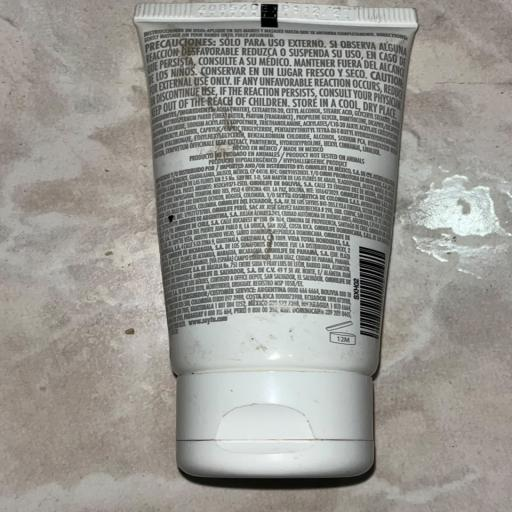HDPE: (92, 10, 476, 512)
